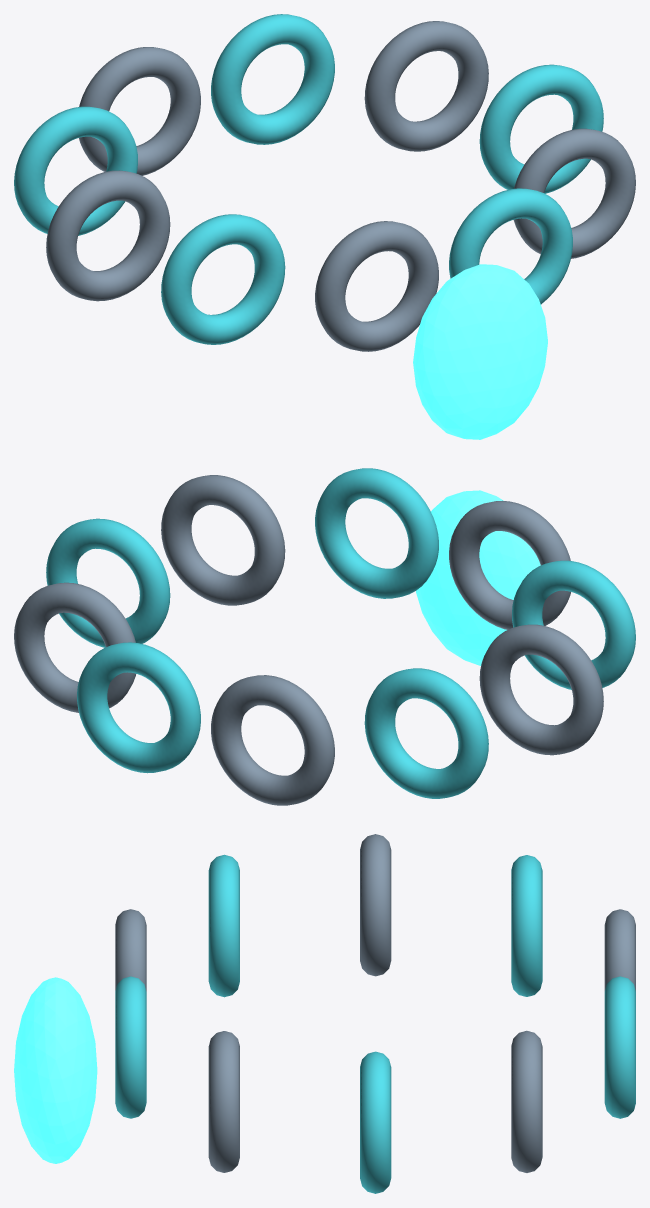
Rendered from bracelet_v3.glb.
3 views of the same model, one above another, from view 1: azimuth 30°, elevation 25°; view 2: azimuth 150°, elevation 25°; view 3: azimuth 270°, elevation 25° (orthographic). The views are drawn at different scales.
Parts seen in each view (by area): view 1: CHAIN_CHARM_EMISSIVE, CHAIN_LINK_ACCENT.003, CHAIN_LINK_PRIMARY.002, CHAIN_LINK_PRIMARY, CHAIN_LINK_ACCENT.001, CHAIN_LINK_PRIMARY.003, CHAIN_LINK_PRIMARY.004, CHAIN_LINK_PRIMARY.001, CHAIN_LINK_ACCENT.002, CHAIN_LINK_ACCENT, CHAIN_LINK_ACCENT.004; view 2: CHAIN_LINK_PRIMARY.001, CHAIN_LINK_ACCENT.004, CHAIN_LINK_ACCENT.002, CHAIN_LINK_PRIMARY.004, CHAIN_LINK_PRIMARY.002, CHAIN_LINK_ACCENT.001, CHAIN_CHARM_EMISSIVE, CHAIN_LINK_PRIMARY, CHAIN_LINK_PRIMARY.003, CHAIN_LINK_ACCENT.003, CHAIN_LINK_ACCENT; view 3: CHAIN_CHARM_EMISSIVE, CHAIN_LINK_PRIMARY, CHAIN_LINK_ACCENT.001, CHAIN_LINK_ACCENT.002, CHAIN_LINK_ACCENT, CHAIN_LINK_PRIMARY.002, CHAIN_LINK_ACCENT.003, CHAIN_LINK_ACCENT.004, CHAIN_LINK_PRIMARY.004, CHAIN_LINK_PRIMARY.003, CHAIN_LINK_PRIMARY.001.
Boxes of the visible parts, bbox=[...] form: CHAIN_CHARM_EMISSIVE: bbox=[413, 264, 547, 439]; CHAIN_LINK_ACCENT.003: bbox=[161, 214, 285, 344]; CHAIN_LINK_PRIMARY.002: bbox=[46, 170, 170, 301]; CHAIN_LINK_PRIMARY: bbox=[364, 21, 488, 151]; CHAIN_LINK_ACCENT.001: bbox=[211, 14, 334, 144]; CHAIN_LINK_PRIMARY.003: bbox=[315, 221, 438, 351]; CHAIN_LINK_PRIMARY.004: bbox=[513, 128, 635, 258]; CHAIN_LINK_PRIMARY.001: bbox=[79, 47, 200, 175]; CHAIN_LINK_ACCENT.002: bbox=[14, 106, 137, 235]; CHAIN_LINK_ACCENT: bbox=[479, 64, 603, 193]; CHAIN_LINK_ACCENT.004: bbox=[449, 188, 572, 304]; CHAIN_LINK_PRIMARY.001: bbox=[211, 675, 334, 805]; CHAIN_LINK_ACCENT.004: bbox=[315, 468, 438, 598]; CHAIN_LINK_ACCENT.002: bbox=[364, 668, 488, 798]; CHAIN_LINK_PRIMARY.004: bbox=[161, 475, 285, 605]; CHAIN_LINK_PRIMARY.002: bbox=[479, 624, 603, 755]; CHAIN_LINK_ACCENT.001: bbox=[77, 642, 200, 773]; CHAIN_CHARM_EMISSIVE: bbox=[416, 490, 540, 665]; CHAIN_LINK_PRIMARY: bbox=[14, 582, 135, 712]; CHAIN_LINK_PRIMARY.003: bbox=[449, 500, 570, 629]; CHAIN_LINK_ACCENT.003: bbox=[512, 560, 635, 689]; CHAIN_LINK_ACCENT: bbox=[46, 518, 170, 647]; CHAIN_CHARM_EMISSIVE: bbox=[14, 977, 97, 1163]; CHAIN_LINK_PRIMARY: bbox=[511, 1030, 542, 1172]; CHAIN_LINK_ACCENT.001: bbox=[604, 976, 635, 1118]; CHAIN_LINK_ACCENT.002: bbox=[511, 855, 542, 996]; CHAIN_LINK_ACCENT: bbox=[360, 1051, 391, 1193]; CHAIN_LINK_PRIMARY.002: bbox=[360, 834, 391, 976]; CHAIN_LINK_ACCENT.003: bbox=[208, 854, 239, 997]; CHAIN_LINK_ACCENT.004: bbox=[115, 976, 146, 1118]; CHAIN_LINK_PRIMARY.004: bbox=[208, 1031, 239, 1172]; CHAIN_LINK_PRIMARY.003: bbox=[115, 909, 146, 991]; CHAIN_LINK_PRIMARY.001: bbox=[604, 909, 635, 990].
Bounding box in the file's own units: 1.89 × 0.665 × 1.79.
